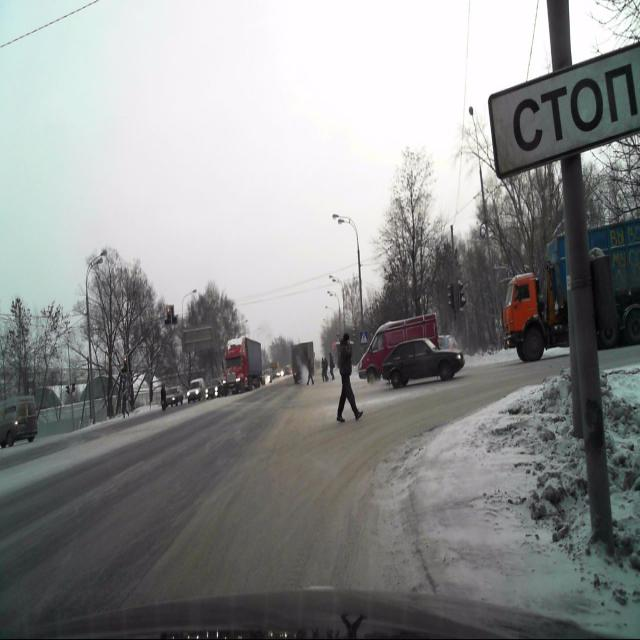road sign: (490, 42, 640, 178)
